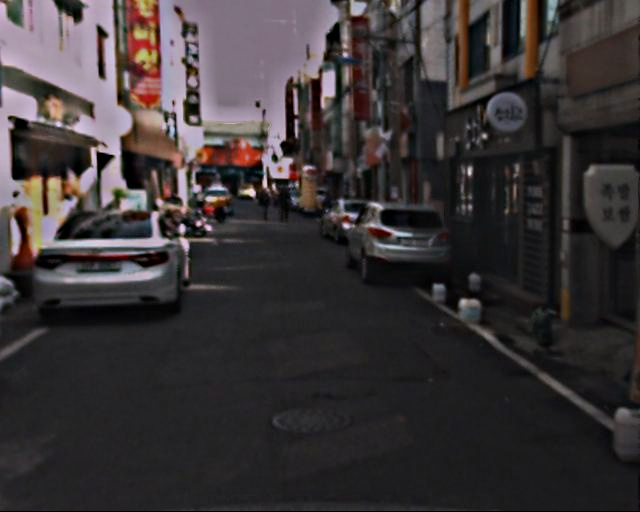person: (276, 183, 294, 227), (259, 188, 275, 226)
